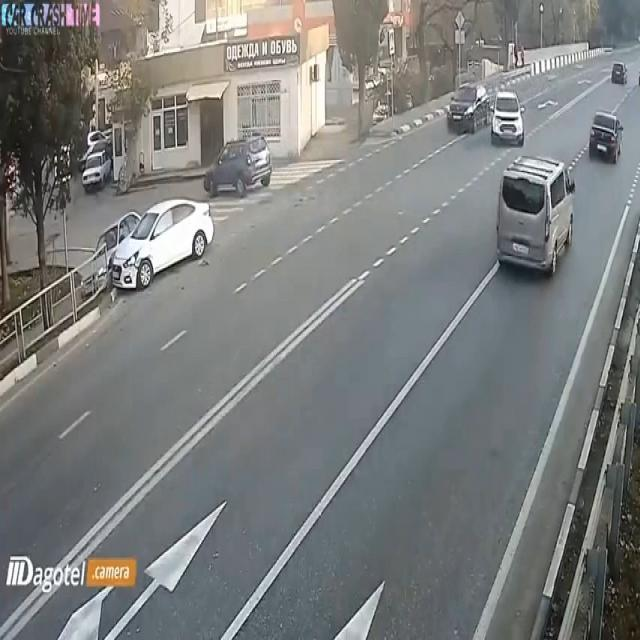Accident: (80, 183, 222, 314)
